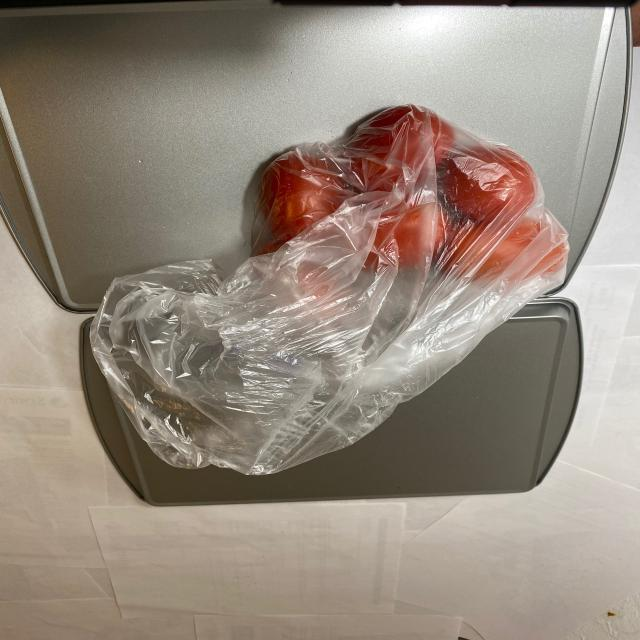tomato: (237, 101, 569, 314)
